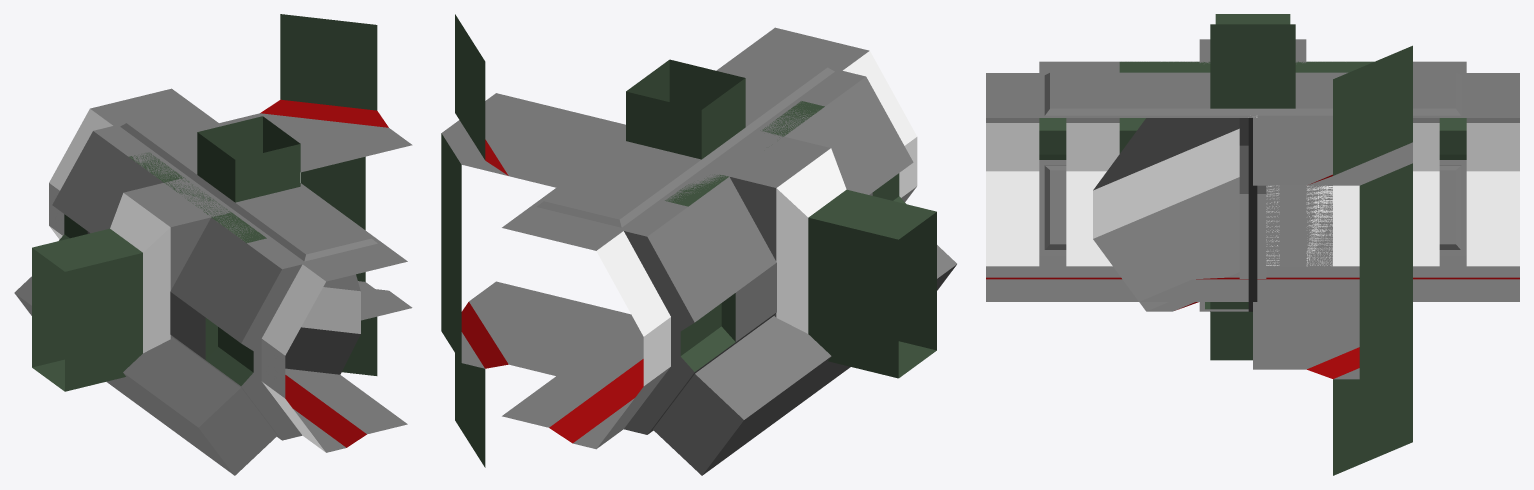
File: spacetile2.fbx
3 renders of one model, left to right at view 1: azimuth 30°, elevation 25°; view 2: azimuth 150°, elevation 25°; view 3: azimuth 270°, elevation 25°, orthographic. The views are drawn at different scales.
Visible parts, largest first — view 1: corridor_triple, corner_hole, corridor_straight_double, corridor_single_junction_horizontal, corridor_single_junction_circuit, corridor_single_junction_vertical, corner_outside, corner_inside, corridor_triple_brace, corridor_single_3, corridor_single_2; view 2: corridor_triple, corner_hole, corridor_single_junction_horizontal, corridor_straight_double, corridor_single_junction_circuit, corridor_single_junction_vertical, corner_inside, corridor_triple_brace, corridor_single_3, corridor_single_2; view 3: corridor_triple, corner_hole, corner_outside, corridor_straight_double, corner_inside, corridor_single_junction_vertical, corridor_single_2, corridor_triple_brace, doorway_frame, door_half, corridor_single_junction_horizontal, corridor_single_junction_circuit.
Boxes of the visible parts, <box> form: corridor_triple: <box>14,88,407,475</box>; corner_hole: <box>219,14,412,375</box>; corridor_straight_double: <box>87,115,372,423</box>; corridor_single_junction_horizontal: <box>32,228,142,391</box>; corridor_single_junction_circuit: <box>110,178,228,353</box>; corridor_single_junction_vertical: <box>197,116,300,202</box>; corner_outside: <box>209,186,360,374</box>; corner_inside: <box>221,116,408,288</box>; corridor_triple_brace: <box>15,277,310,473</box>; corridor_single_3: <box>123,178,230,375</box>; corridor_single_2: <box>173,168,311,373</box>; corridor_triple: <box>502,27,956,475</box>; corner_hole: <box>455,14,633,467</box>; corridor_single_junction_horizontal: <box>808,189,936,378</box>; corridor_straight_double: <box>543,57,872,400</box>; corridor_single_junction_circuit: <box>706,131,846,333</box>; corridor_single_junction_vertical: <box>626,59,745,159</box>; corner_inside: <box>441,94,555,368</box>; corridor_triple_brace: <box>619,246,956,474</box>; corridor_single_3: <box>706,131,841,377</box>; corridor_single_2: <box>613,120,772,356</box>; corridor_triple: <box>986,61,1519,301</box>; corner_hole: <box>1253,45,1412,475</box>; corner_outside: <box>1093,115,1252,311</box>; corridor_straight_double: <box>1066,61,1439,301</box>; corner_inside: <box>1257,142,1412,379</box>; corridor_single_junction_vertical: <box>1199,24,1295,360</box>; corridor_single_2: <box>1173,108,1332,301</box>; corridor_triple_brace: <box>1040,160,1462,301</box>; doorway_frame: <box>1239,118,1266,278</box>; door_half: <box>1248,116,1257,311</box>; corridor_single_junction_horizontal: <box>1215,14,1290,24</box>; corridor_single_junction_circuit: <box>1199,39,1306,63</box>.
Bounding box in the file's own units: 890 × 820 × 1000.
